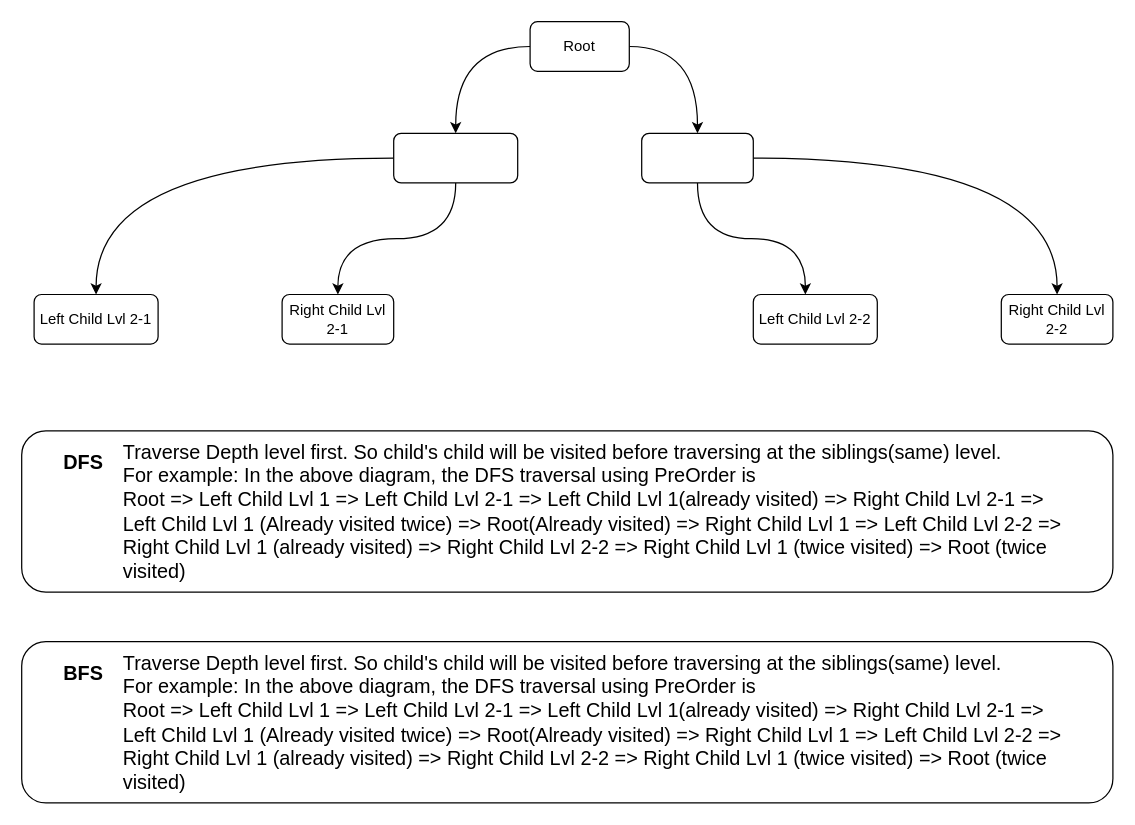
The diagram is 1135 pixels wide and 825 high, and some of its shapes have lost their labels. Here are the shapes that lost their labels. From the top down, the box of each, then its label:
(392, 132, 518, 183): Left Child Lvl 1
(640, 132, 753, 183): Right Child Lvl 1
